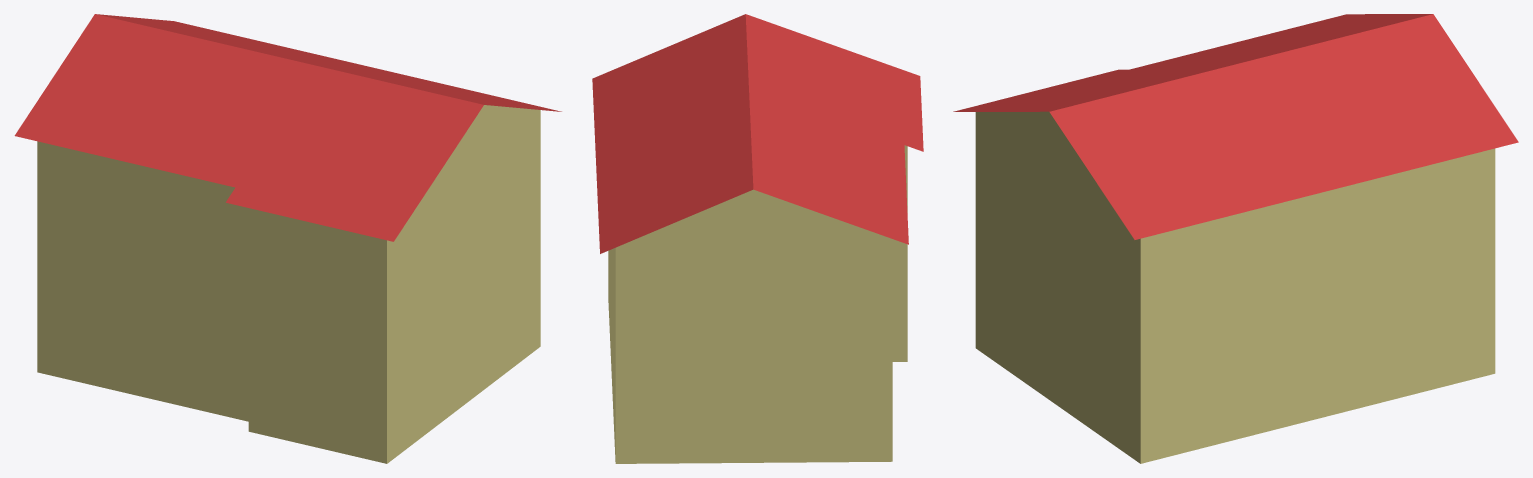
The picture shows the model from 3 angles, left to right: view 1: azimuth 30°, elevation 25°; view 2: azimuth 150°, elevation 25°; view 3: azimuth 270°, elevation 25°; orthographic projection. The views are drawn at different scales.
Bounding box in the file's own units: 15.14 × 16.6 × 9.77.
